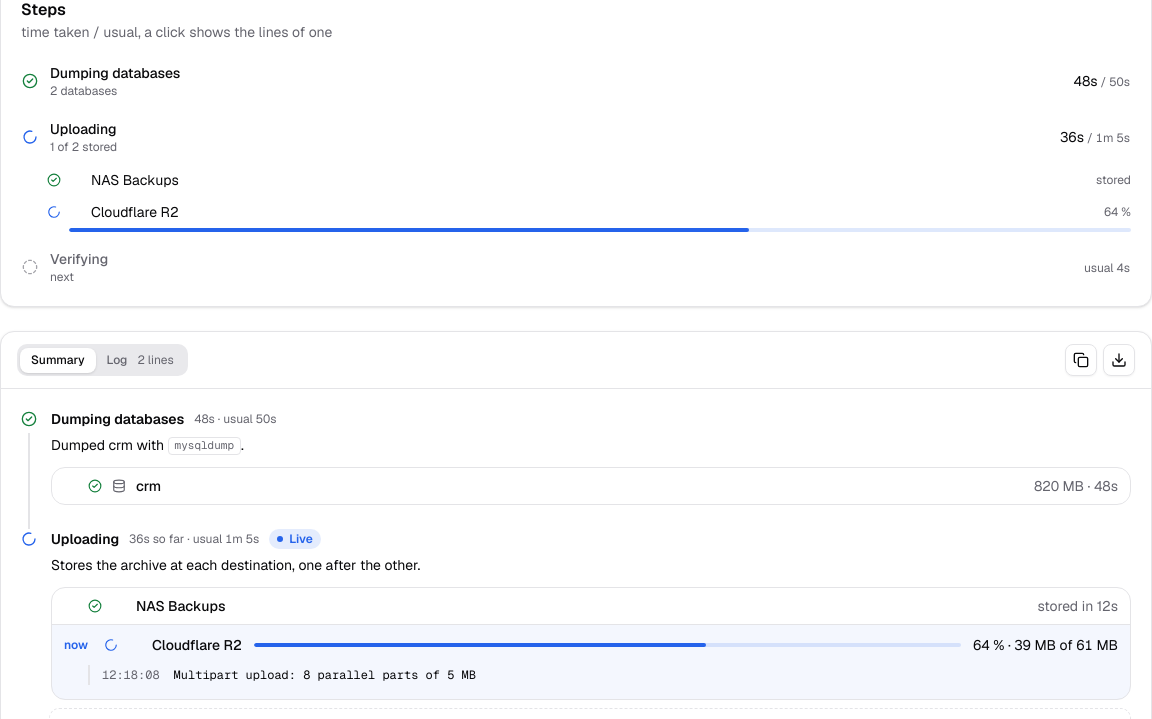
Test case: the page of a run › follows a live run with its progress, the upload in one row, who waits and a way to cancel it
(page scrolled)
Expected: the text "64 % · 39 MB of 61 MB" is shown, [973,635,1118,655]
Click the tab "Log 2 lines" at (140, 360), box [96,348,185,372]
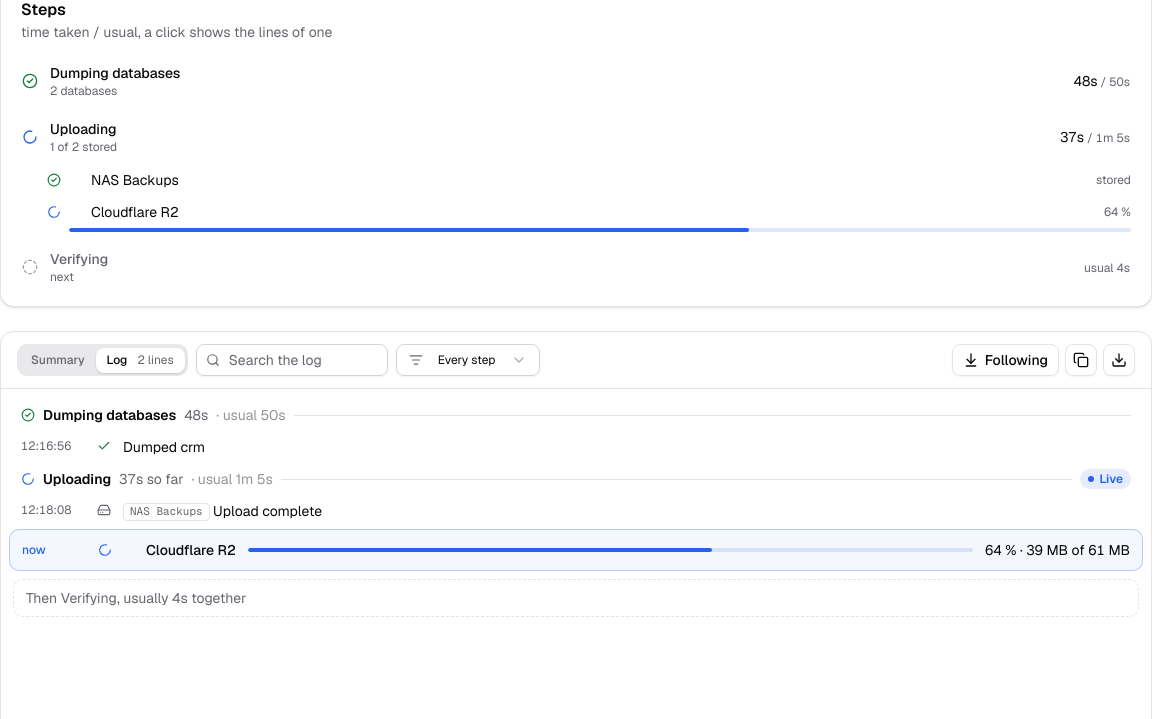
Expected: the text "64 % · 39 MB of 61 MB" is shown, [985,540,1130,560]
Expected: the button "Following" is shown, [952,344,1059,376]
